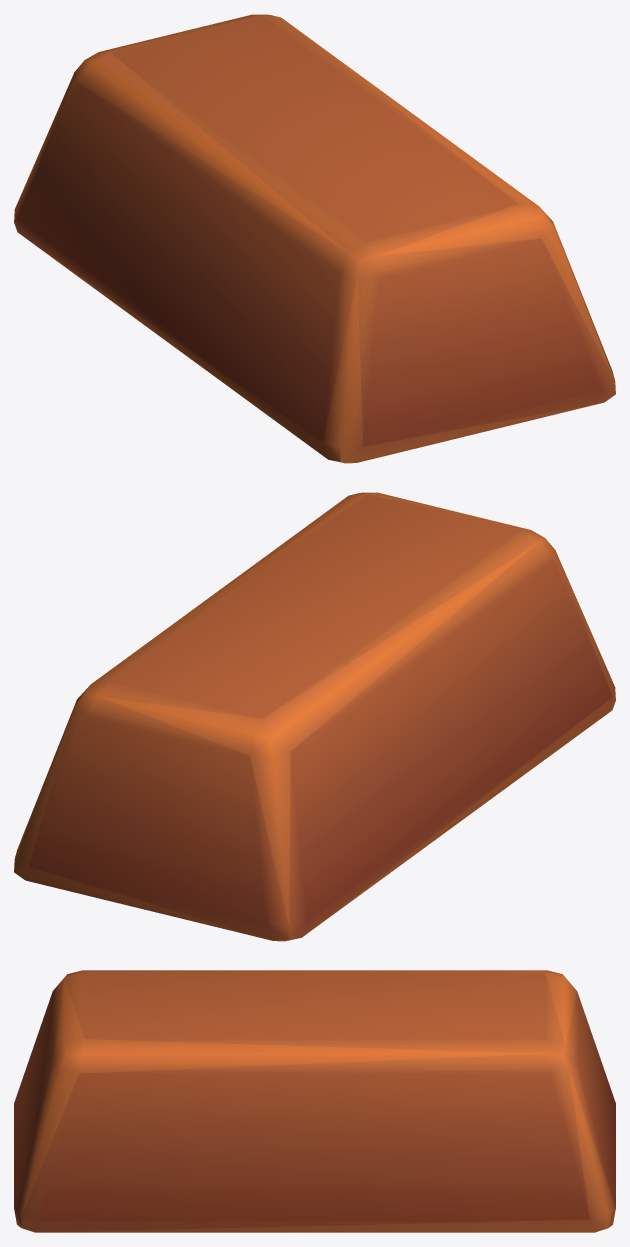
The model's file is copper-bar.glb.
3 renders of one model, top to bottom at view 1: azimuth 30°, elevation 25°; view 2: azimuth 150°, elevation 25°; view 3: azimuth 270°, elevation 25°, orthographic. The views are drawn at different scales.
Visible parts, largest first — view 1: Copper_Bar; view 2: Copper_Bar; view 3: Copper_Bar.
Part boxes in pixels (bbox=[...]): Copper_Bar: bbox=[14, 14, 615, 463]; Copper_Bar: bbox=[14, 492, 615, 941]; Copper_Bar: bbox=[14, 970, 615, 1232].
Size of the model in its own units: 0.4 by 0.25 by 0.8.
1 material, 1 textured.
